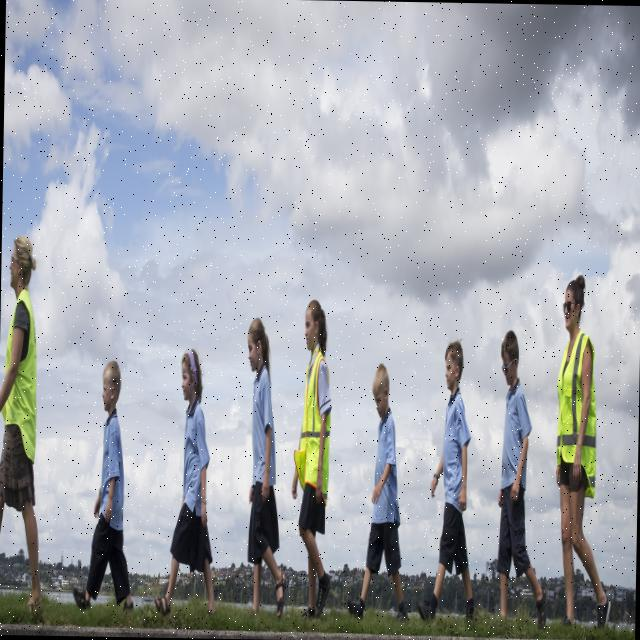Person: (551, 271, 615, 633), (153, 346, 222, 612), (0, 240, 48, 602), (417, 339, 478, 620), (495, 328, 551, 626), (347, 364, 411, 616), (72, 359, 136, 604), (288, 298, 336, 624), (242, 318, 291, 614)
